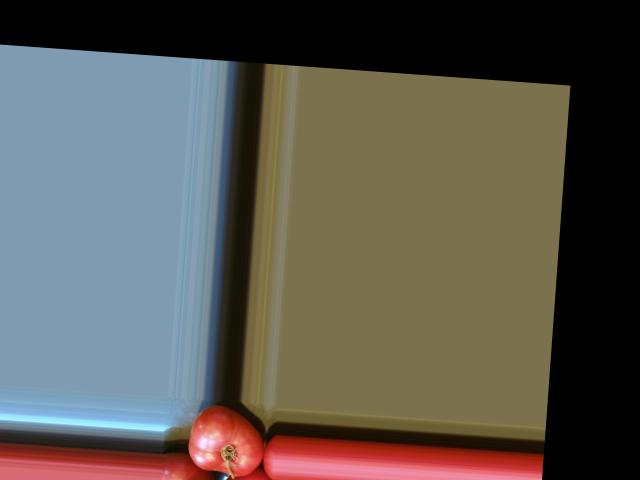tomato: (187, 403, 266, 477)
